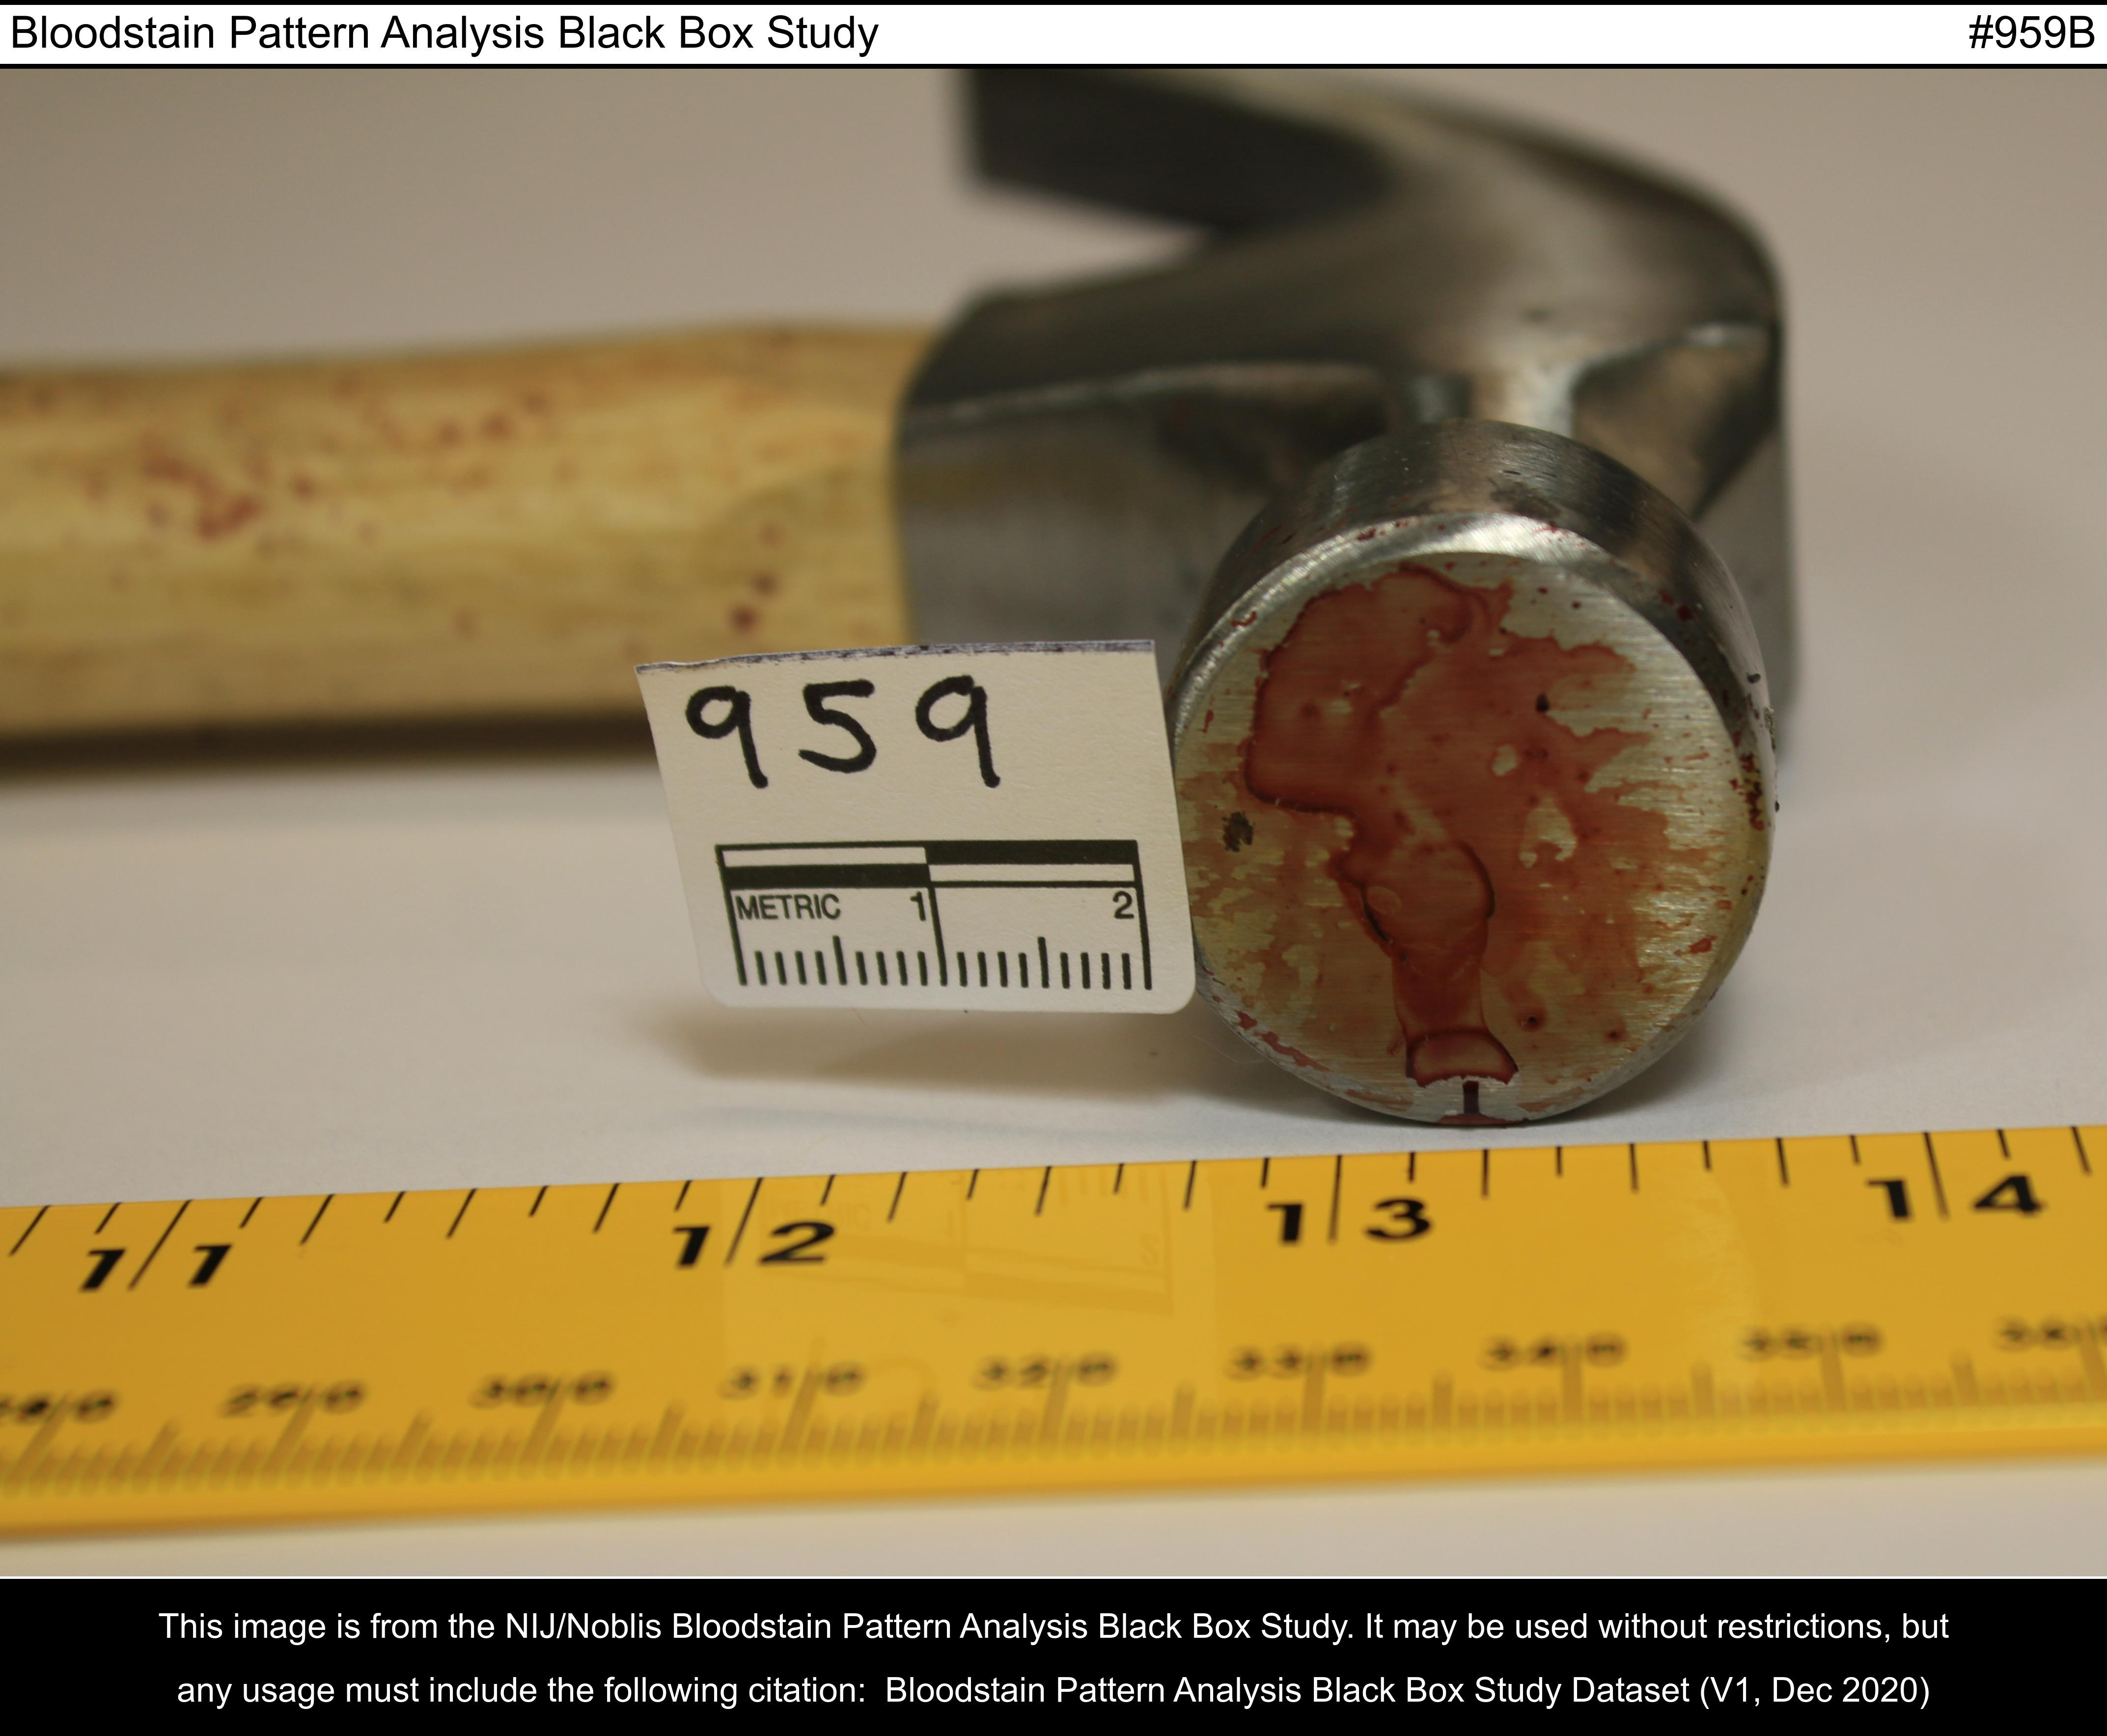Transfer: (1169, 532, 1738, 1132)
